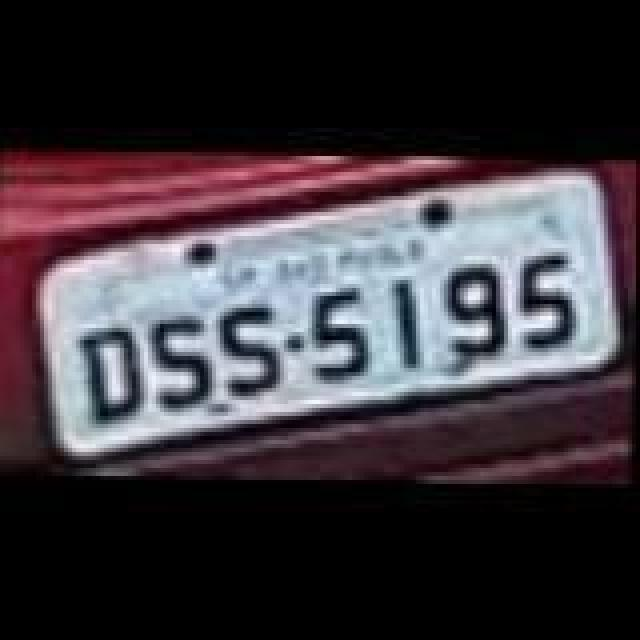1: (390, 274, 434, 374)
5: (306, 284, 374, 388), (516, 250, 580, 358)
9: (444, 258, 516, 366)
D: (82, 326, 150, 426)
S: (220, 302, 284, 402), (158, 314, 218, 414)
